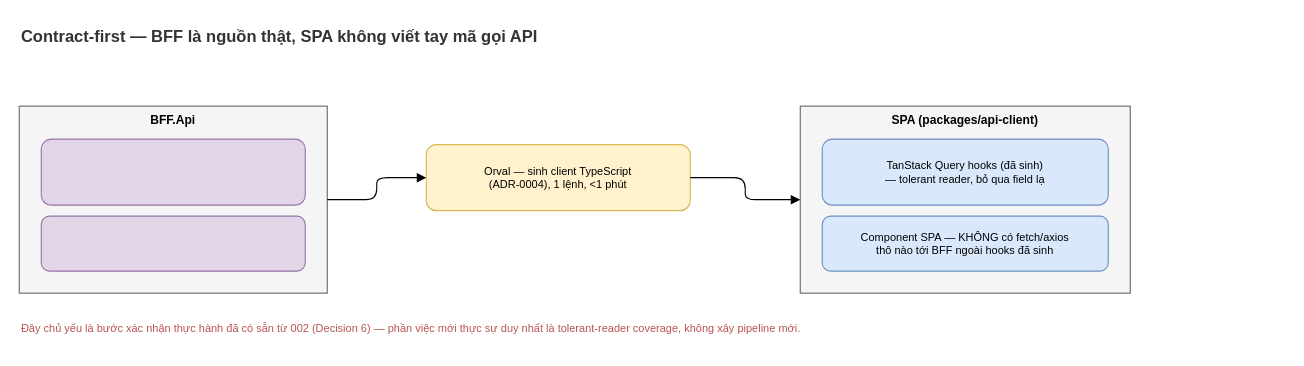
This 1304x366 diagram has some shape labels left out. Each missing label, with the centre of its shape:
ASP.NET Core OpenAPI document builder — tự sinh, không phải viết tay: point (172, 243)
Route products/baskets/orders (nguồn thật của hình dạng dữ liệu): point (172, 171)
